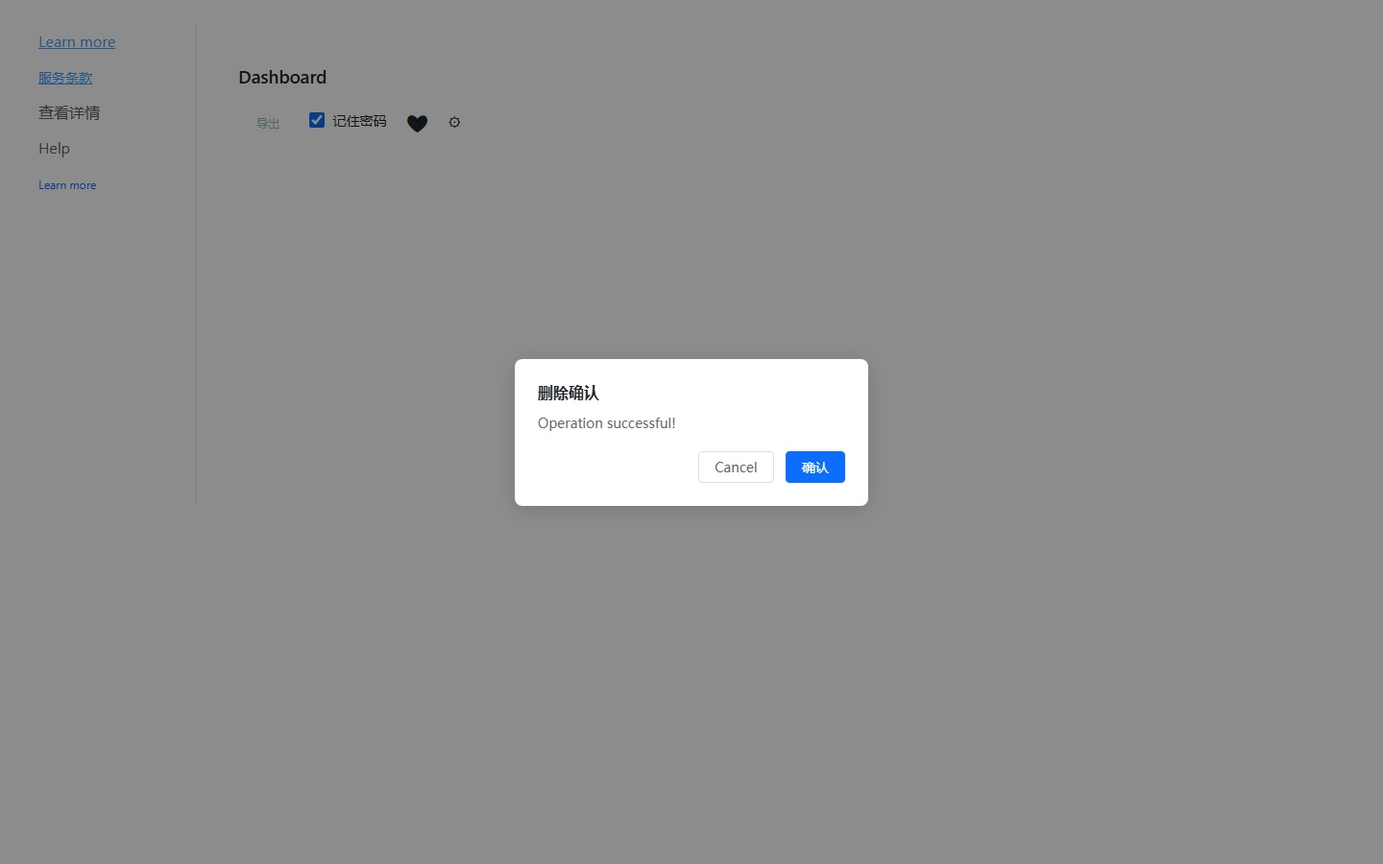button: (698, 451, 774, 482), (786, 451, 845, 482), (246, 112, 290, 133)
checkbox: (310, 113, 325, 128)
icon: (333, 111, 386, 129), (406, 111, 428, 134), (448, 114, 461, 129)
link: (38, 31, 115, 51), (38, 102, 100, 122), (38, 68, 92, 86), (38, 177, 96, 192), (38, 137, 70, 157)
modal: (0, 0, 1383, 864)
radio: (310, 111, 386, 129)
